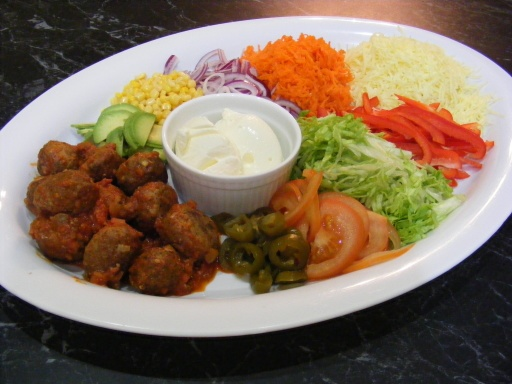background: (18, 18, 397, 178)
